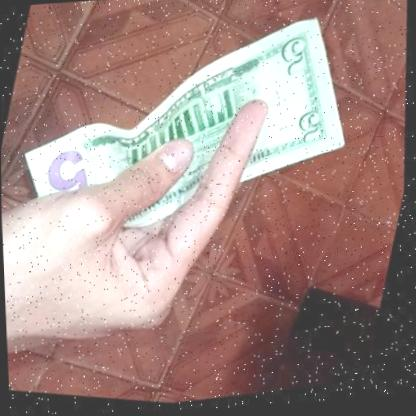five-back: (0, 0, 383, 285)
